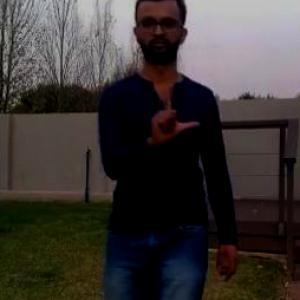land_hand: (144, 80, 203, 149)
